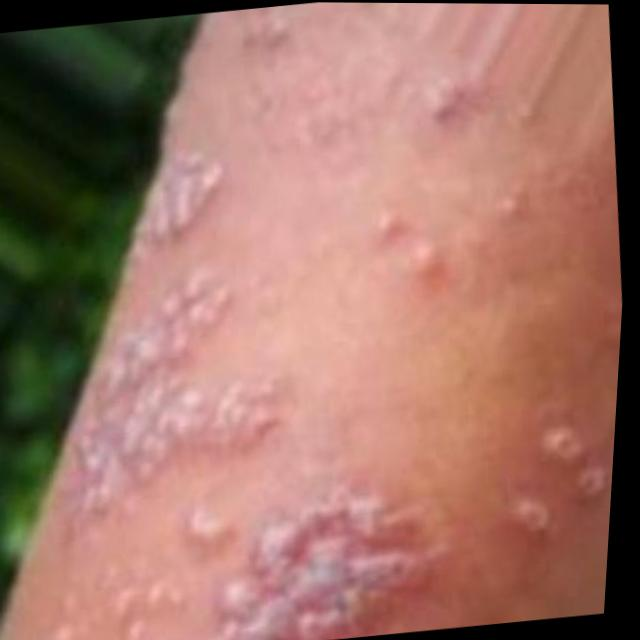Shingles: (28, 136, 459, 640), (497, 390, 617, 550)
